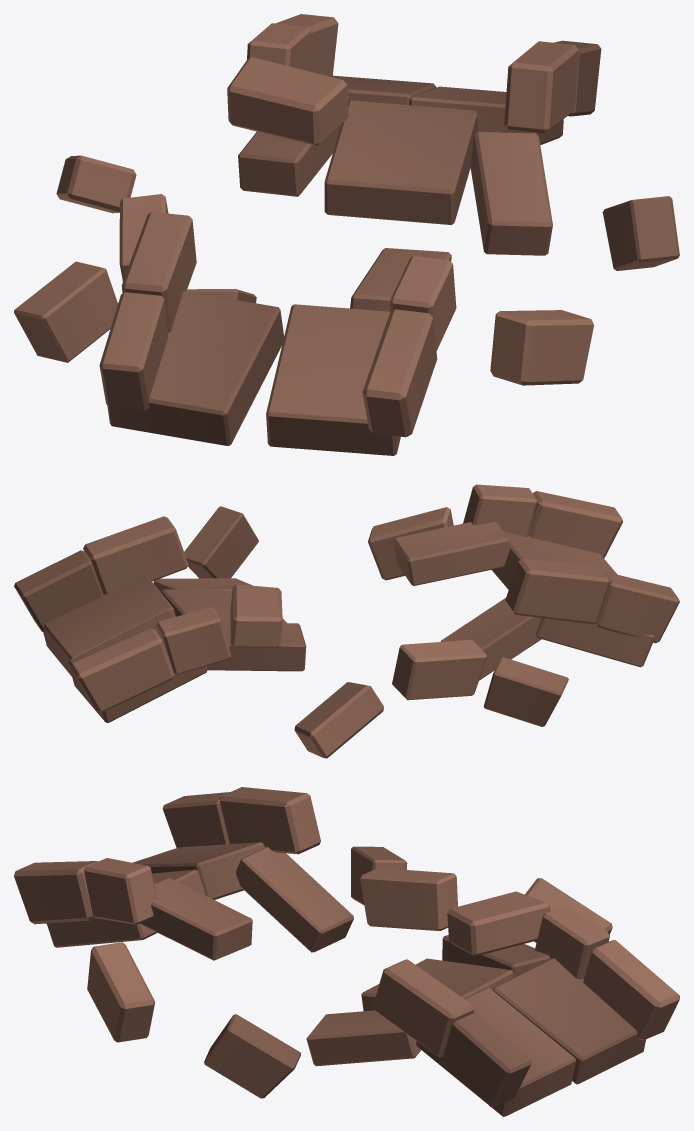
The model's file is mdl_bridgeBroken.fbx.
3 renders of one model, top to bottom at view 1: azimuth 30°, elevation 25°; view 2: azimuth 150°, elevation 25°; view 3: azimuth 270°, elevation 25°, orthographic. The views are drawn at different scales.
Visible parts, largest first — view 1: mdl_bridgeBroken; view 2: mdl_bridgeBroken; view 3: mdl_bridgeBroken.
Boxes of the visible parts, x1=… form: mdl_bridgeBroken: x1=14, y1=14, x2=679, y2=455; mdl_bridgeBroken: x1=14, y1=484, x2=679, y2=758; mdl_bridgeBroken: x1=14, y1=787, x2=679, y2=1116.
Bounding box in the file's own units: 25.77 × 5.74 × 26.44.
